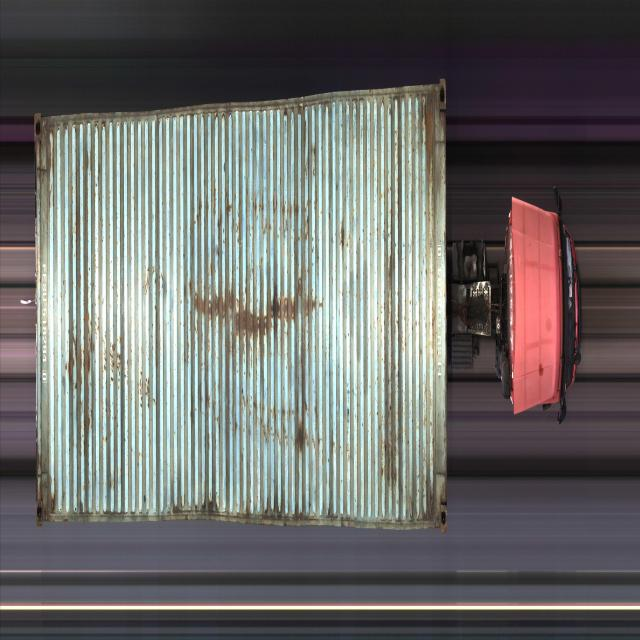rust: (239, 282, 321, 346), (65, 319, 97, 439), (385, 301, 403, 489), (193, 279, 236, 325), (279, 196, 314, 245), (75, 164, 90, 265), (106, 328, 126, 392), (426, 90, 439, 187), (296, 397, 311, 463), (41, 455, 57, 515), (41, 131, 53, 205), (138, 369, 153, 416)
